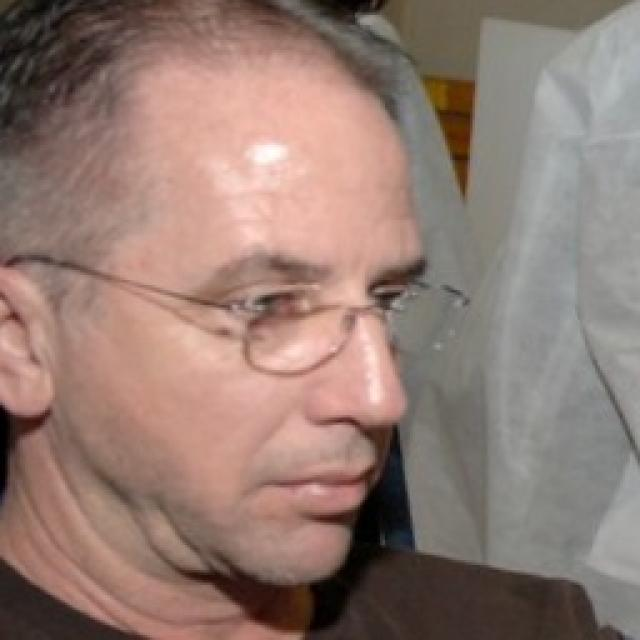glasses: (6, 242, 474, 377)
